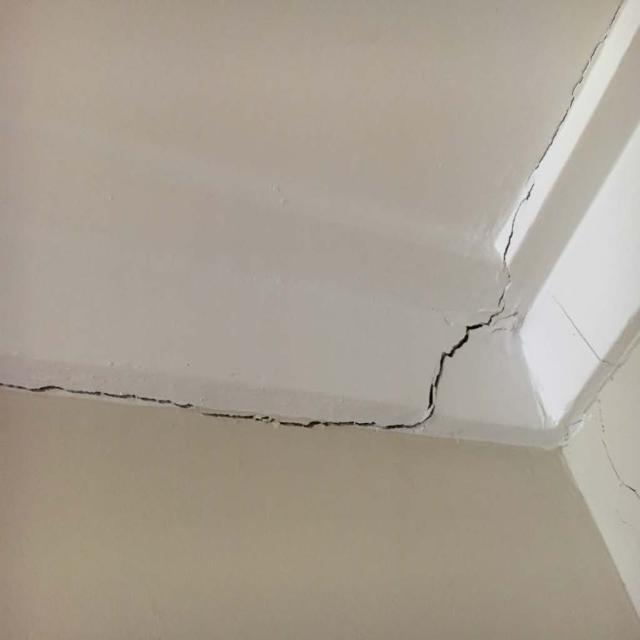Crack: (505, 0, 619, 254), (418, 182, 531, 424), (3, 373, 429, 434), (544, 287, 616, 369), (597, 399, 639, 502)
